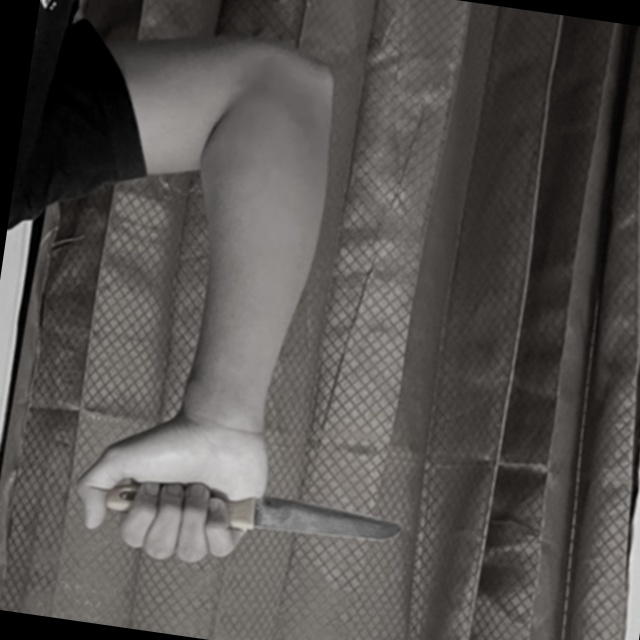Sharp-Object: (103, 470, 406, 555)
